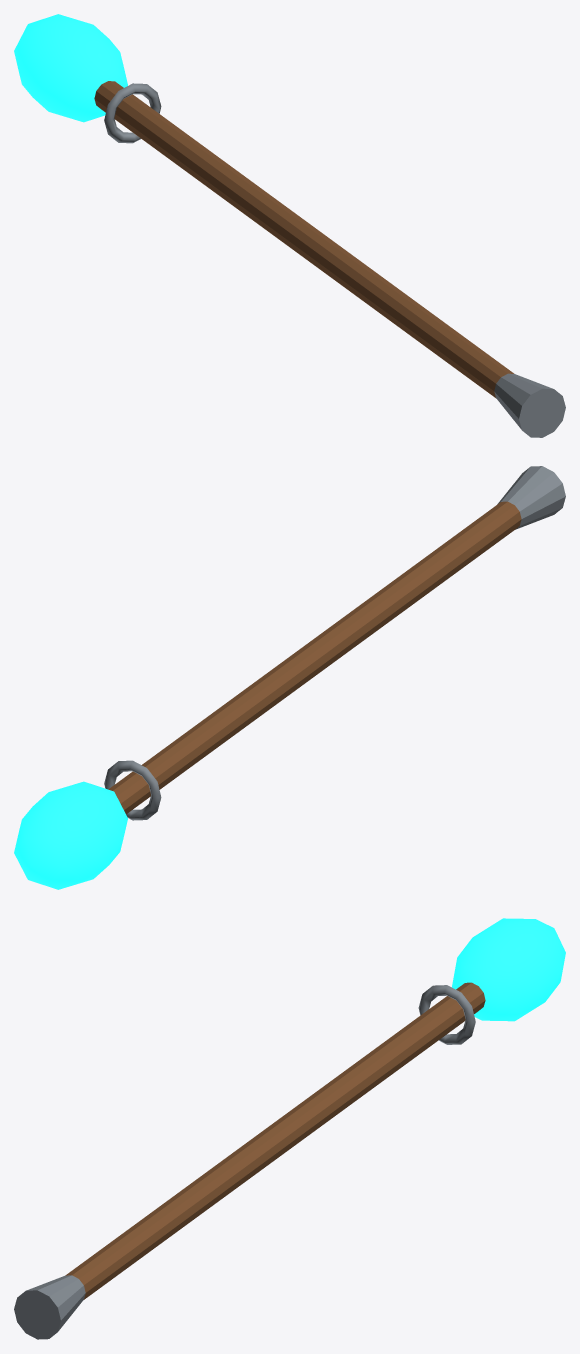
File: WPN_Staff_Elemental_TP_v01.glb
3 views of the same model, one above another, from view 1: azimuth 30°, elevation 25°; view 2: azimuth 150°, elevation 25°; view 3: azimuth 330°, elevation 25° (orthographic).
Visible parts, largest first — view 1: MESH_Weapon, MESH_FocusCrystal; view 2: MESH_Weapon, MESH_FocusCrystal; view 3: MESH_Weapon, MESH_FocusCrystal.
Part boxes in pixels (bbox=[...]): MESH_Weapon: bbox=[94, 81, 565, 437]; MESH_FocusCrystal: bbox=[14, 14, 127, 122]; MESH_Weapon: bbox=[104, 466, 565, 820]; MESH_FocusCrystal: bbox=[14, 781, 127, 889]; MESH_Weapon: bbox=[14, 982, 485, 1339]; MESH_FocusCrystal: bbox=[452, 918, 565, 1021].
Bounding box in the file's own units: 0.1902 × 0.2 × 2.07.
